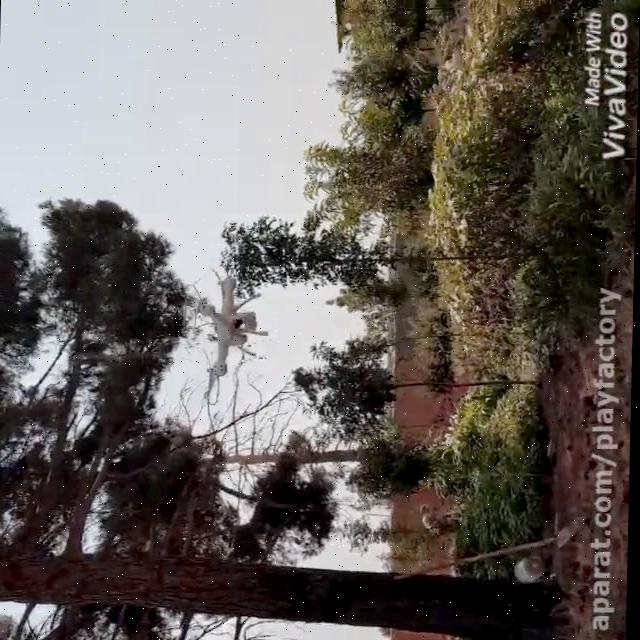drone: (186, 268, 270, 410)
